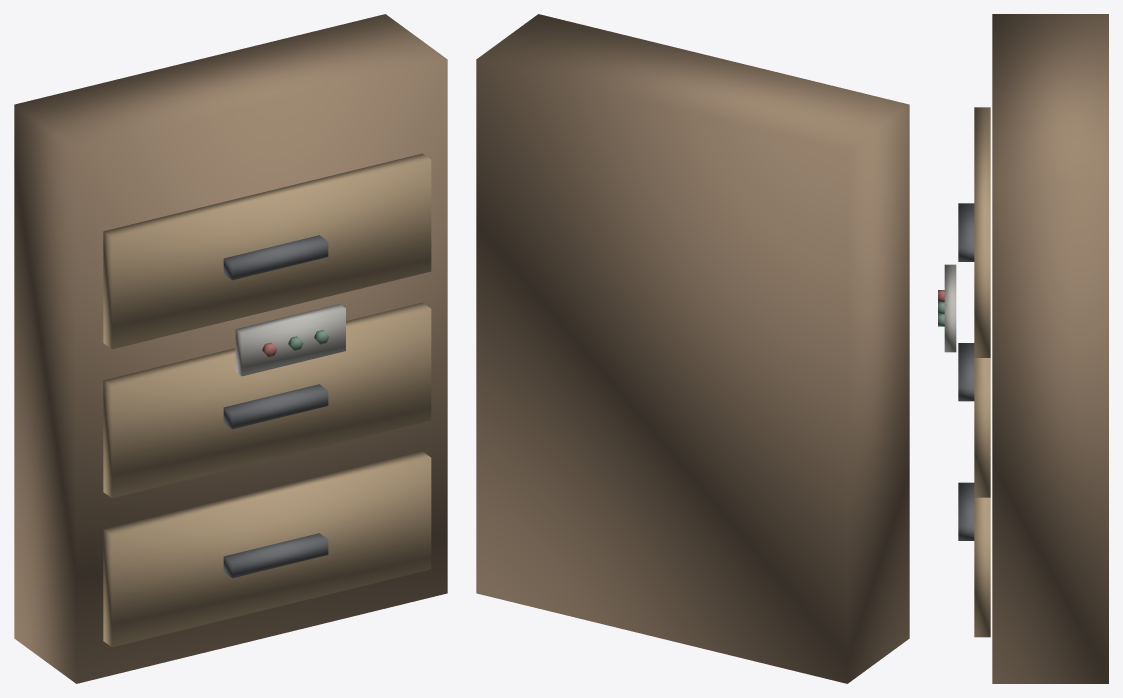
The model's file is medicine_cabinet__reinforced.glb.
3 views of the same model, side by side, from view 1: azimuth 30°, elevation 25°; view 2: azimuth 150°, elevation 25°; view 3: azimuth 270°, elevation 25° (orthographic). The views are drawn at different scales.
Parts seen in each view (by area): view 1: world; view 2: world; view 3: world.
Part boxes in pixels (left/top/right/bottom): world: left=14, top=14, right=447, bottom=683; world: left=476, top=14, right=909, bottom=683; world: left=938, top=14, right=1108, bottom=683.
Bounding box in the file's own units: 0.6386 × 0.8772 × 0.2714.
